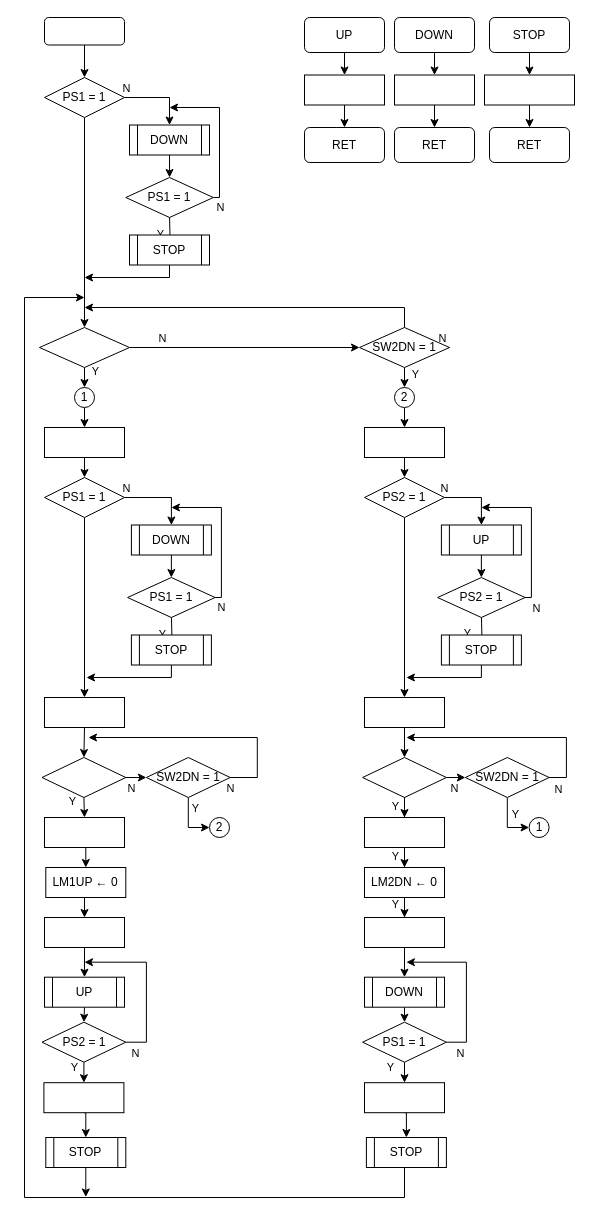
Some shapes in this 592 by 1223 pixel diagram are drawn without their labels. The centre of each missing label's shape, as x and y in pixels:
LM1UP ← 1: (x=84, y=442)
LM2DN ← 1: (x=404, y=442)
LMC1 ← 0: (x=404, y=1097)
LMC1 ← 1: (x=404, y=932)
LMC2 ← 0: (x=83, y=1097)
LMC2 ← 1: (x=84, y=932)
LMP1 ← 0: (x=84, y=832)
LMP1 ← 1: (x=84, y=712)
LMP2 ← 0: (x=404, y=832)
LMP2 ← 1: (x=404, y=712)
MDN ← 1: (x=434, y=89)
MUP ← 1: (x=344, y=89)
MUP, MDN ← 0: (x=529, y=89)
START: (x=84, y=30)
SW1 = 1: (x=404, y=777)
SW1UP = 1: (x=84, y=347)
SW2 = 1: (x=83, y=777)
